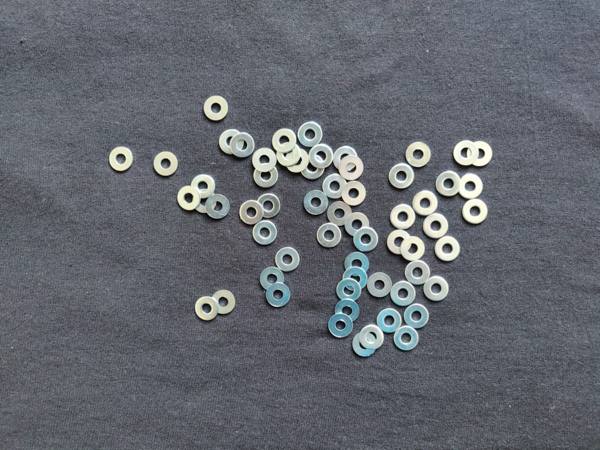circle: (202, 93, 230, 124), (406, 140, 435, 169), (190, 188, 219, 216), (218, 128, 245, 157), (387, 162, 416, 189), (434, 169, 461, 198), (211, 287, 237, 317), (258, 265, 286, 292), (451, 140, 478, 168), (461, 199, 489, 226), (412, 188, 440, 215), (266, 282, 292, 311), (403, 259, 432, 285), (275, 246, 302, 273), (297, 121, 324, 148), (332, 145, 359, 172), (434, 235, 461, 262), (205, 193, 231, 221), (230, 131, 256, 159), (326, 313, 354, 339), (456, 173, 484, 199), (367, 272, 395, 298), (316, 224, 345, 249), (467, 141, 492, 170), (194, 295, 220, 322), (424, 212, 450, 239), (404, 303, 430, 330), (107, 146, 135, 171), (344, 212, 372, 237), (333, 299, 361, 324), (352, 331, 377, 359), (191, 173, 217, 199), (253, 163, 279, 189), (353, 227, 379, 253), (344, 251, 370, 277), (389, 204, 415, 230), (400, 236, 426, 262), (326, 202, 353, 227), (385, 230, 412, 255), (391, 279, 416, 306), (154, 150, 179, 176), (253, 221, 278, 247), (342, 268, 368, 293), (423, 276, 449, 301), (240, 199, 264, 226), (271, 129, 298, 153), (285, 148, 309, 175), (337, 279, 364, 303), (251, 148, 279, 171), (176, 186, 201, 211), (394, 326, 419, 351), (275, 143, 301, 167), (300, 153, 324, 179), (323, 174, 347, 200), (309, 144, 334, 168), (344, 181, 368, 206), (305, 190, 329, 215), (339, 157, 365, 180), (258, 194, 282, 218), (378, 309, 403, 332), (360, 326, 384, 349)
